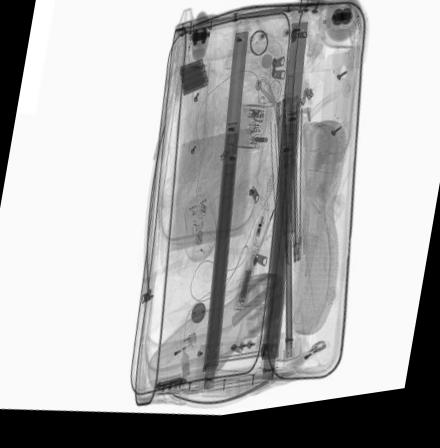Lighter: (155, 336, 198, 373)
